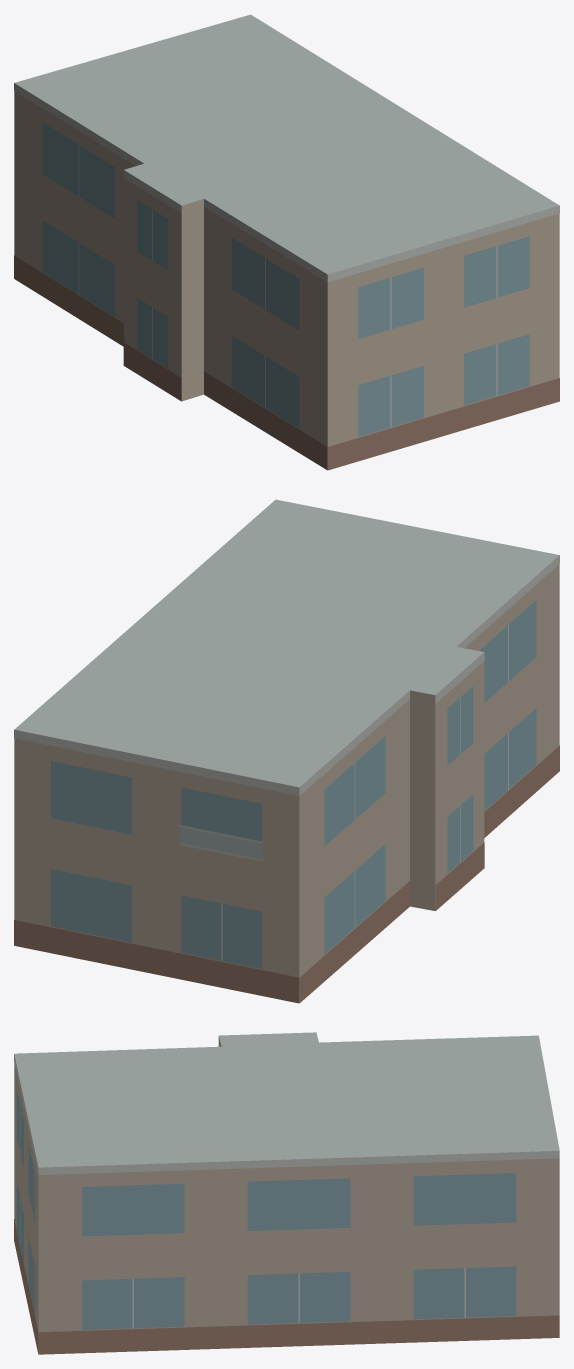
Rendered from survey-upis-32962407.glb.
3 renders of one model, top to bottom at view 1: azimuth 30°, elevation 25°; view 2: azimuth 150°, elevation 25°; view 3: azimuth 270°, elevation 25°, orthographic. The views are drawn at different scales.
Parts seen in each view (by area): view 1: survey-upis-32962407.tmp; view 2: survey-upis-32962407.tmp; view 3: survey-upis-32962407.tmp.
Boxes of the visible parts, x1,y1,x2,y2 form: survey-upis-32962407.tmp: (14, 14, 559, 470); survey-upis-32962407.tmp: (14, 499, 559, 1003); survey-upis-32962407.tmp: (14, 1032, 559, 1354).
Size of the model in its own units: 9.48 by 6.1 by 16.15.
